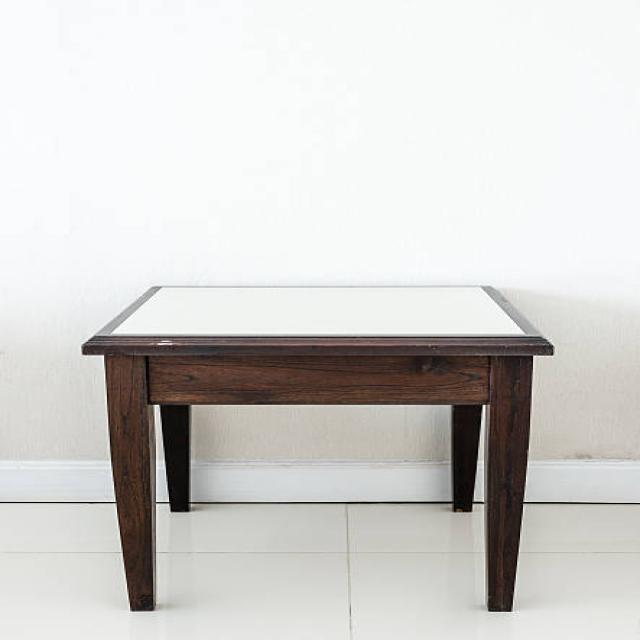table: (79, 283, 555, 612)
